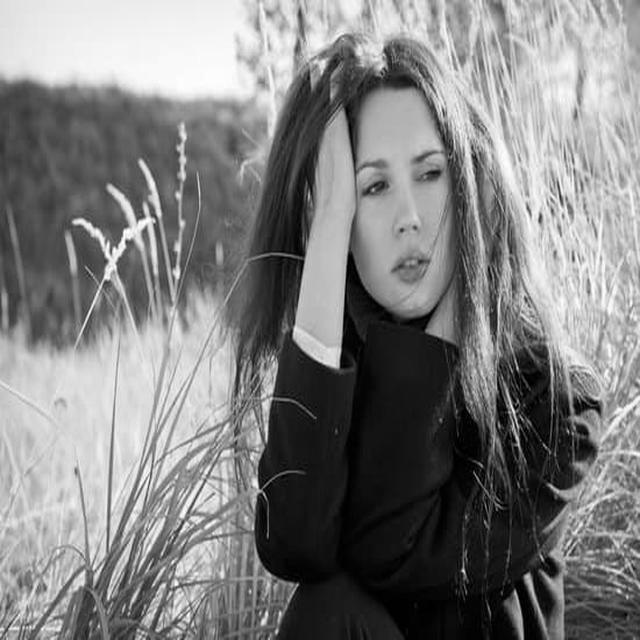Sadness: (349, 86, 459, 314)
